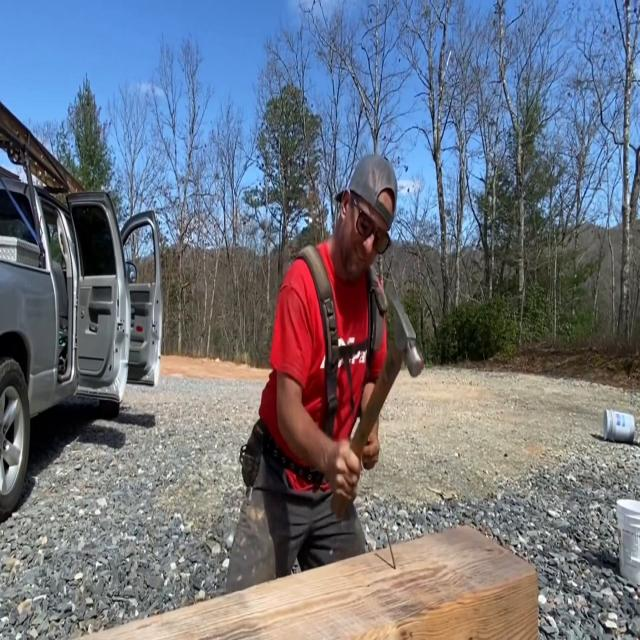hammer: (331, 296, 422, 510)
